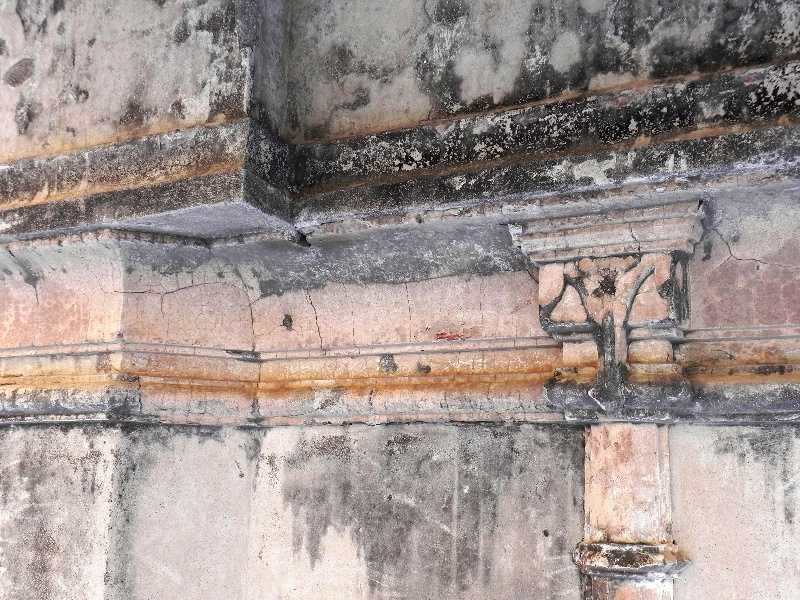Spalling: (288, 223, 318, 251)
